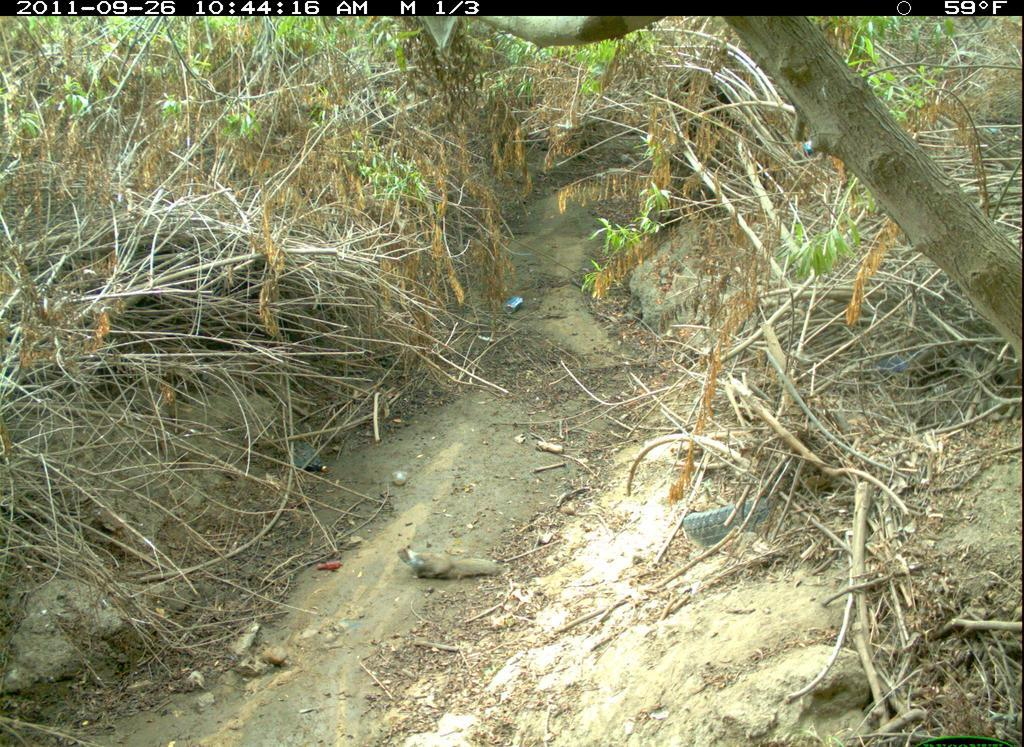squirrel: (392, 538, 506, 588)
